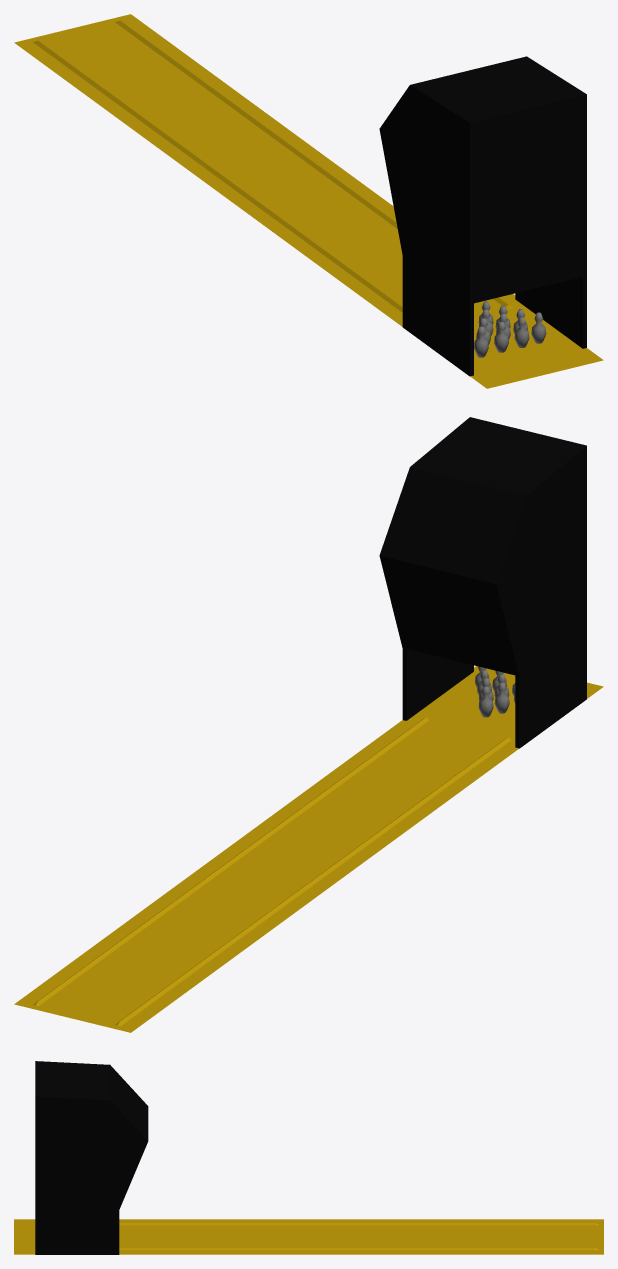
The model's file is SM_BowlingAlley (1).fbx.
3 views of the same model, one above another, from view 1: azimuth 30°, elevation 25°; view 2: azimuth 150°, elevation 25°; view 3: azimuth 270°, elevation 25° (orthographic). The views are drawn at different scales.
Visible parts, largest first — view 1: Cube, Plane, Cylinder.006; view 2: Cube, Plane, Cylinder.006; view 3: Cube, Plane.
Part boxes in pixels (<box>): Cube: <box>379,56,586,376</box>; Plane: <box>14,14,603,388</box>; Cylinder.006: <box>474,301,546,357</box>; Cube: <box>379,417,586,748</box>; Plane: <box>14,666,603,1032</box>; Cylinder.006: <box>475,666,515,717</box>; Cube: <box>35,1061,148,1254</box>; Plane: <box>14,1219,603,1254</box>.
Bounding box in the file's own units: 200 × 415 × 1401.
